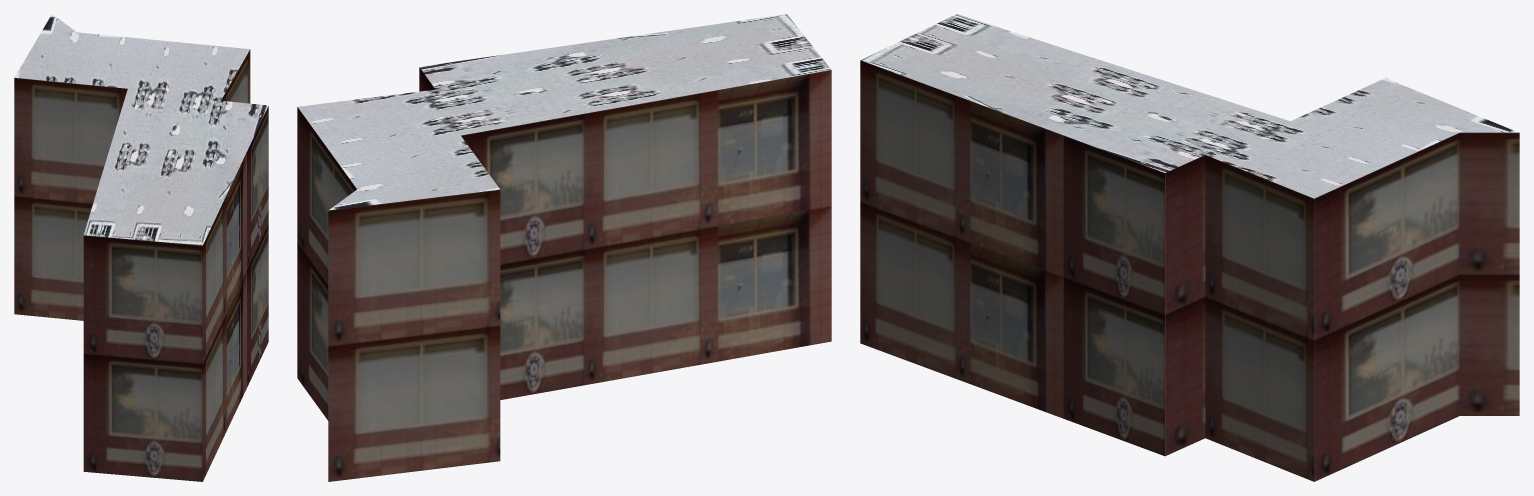
The model's file is ResTex__4176.fbx.
3 views of the same model, side by side, from view 1: azimuth 30°, elevation 25°; view 2: azimuth 150°, elevation 25°; view 3: azimuth 270°, elevation 25° (orthographic). The views are drawn at different scales.
Visible parts, largest first — view 1: CityEngineMaterial_13_m, CityEngineMaterial_m; view 2: CityEngineMaterial_13_m, CityEngineMaterial_m; view 3: CityEngineMaterial_13_m, CityEngineMaterial_m.
Boxes of the visible parts, x1,y1,x2,y2 form: CityEngineMaterial_13_m: (14, 49, 268, 481); CityEngineMaterial_m: (14, 14, 268, 245); CityEngineMaterial_13_m: (297, 67, 831, 481); CityEngineMaterial_m: (297, 14, 830, 210); CityEngineMaterial_13_m: (860, 60, 1519, 481); CityEngineMaterial_m: (861, 14, 1518, 198).
Bounding box in the file's own units: 8.39 × 6 × 12.65.
2 materials, 2 textured.
